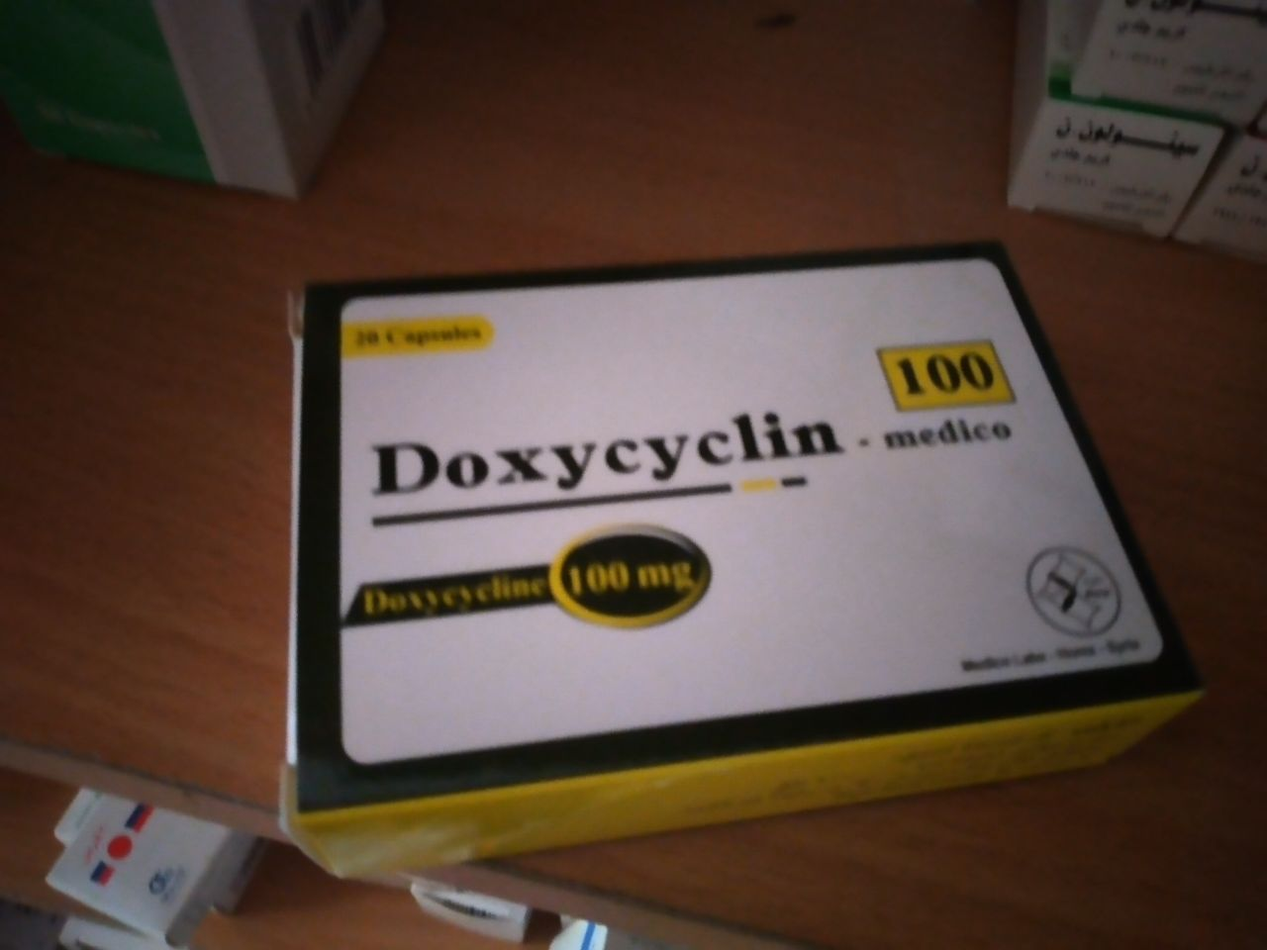Medicine: (272, 240, 1227, 903)
